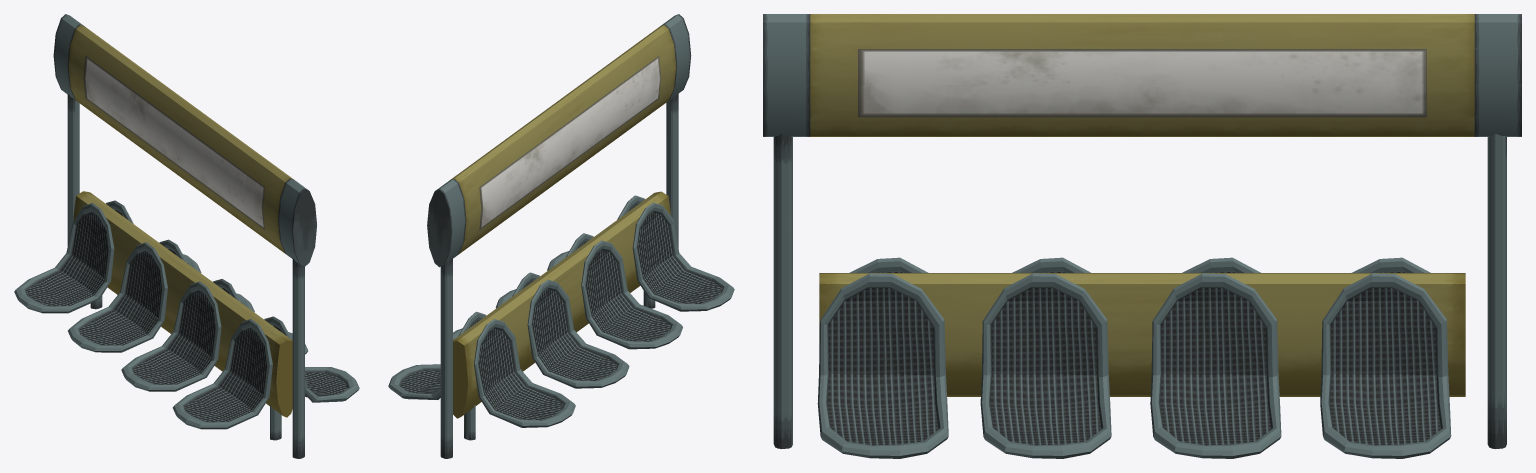
File: BankTextured.fbx
3 views of the same model, side by side, from view 1: azimuth 30°, elevation 25°; view 2: azimuth 150°, elevation 25°; view 3: azimuth 270°, elevation 25° (orthographic). The views are drawn at different scales.
Visible parts, largest first — view 1: schild.001; view 2: schild.001; view 3: schild.001.
Boxes of the visible parts, left/top/right/bottom form: schild.001: left=14, top=14, right=359, bottom=458; schild.001: left=388, top=14, right=734, bottom=458; schild.001: left=763, top=14, right=1521, bottom=458.
Size of the model in its own units: 218 by 330 by 526.
